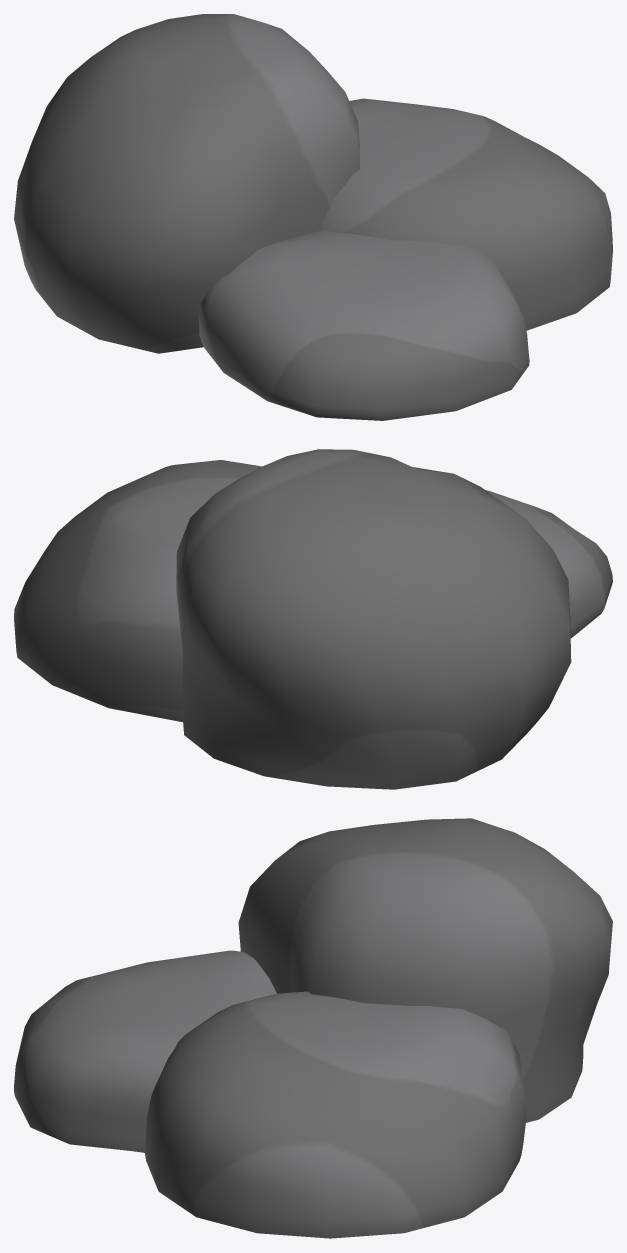
File: rock-md.fbx
3 views of the same model, one above another, from view 1: azimuth 30°, elevation 25°; view 2: azimuth 150°, elevation 25°; view 3: azimuth 270°, elevation 25° (orthographic). The views are drawn at different scales.
Visible parts, largest first — view 1: rocks-medium; view 2: rocks-medium; view 3: rocks-medium.
Part boxes in pixels (x1,y1,x2,y2): rocks-medium: [14, 14, 612, 420]; rocks-medium: [14, 449, 612, 789]; rocks-medium: [14, 818, 612, 1238].
Size of the model in its own units: 4.37 by 1.89 by 4.33.
